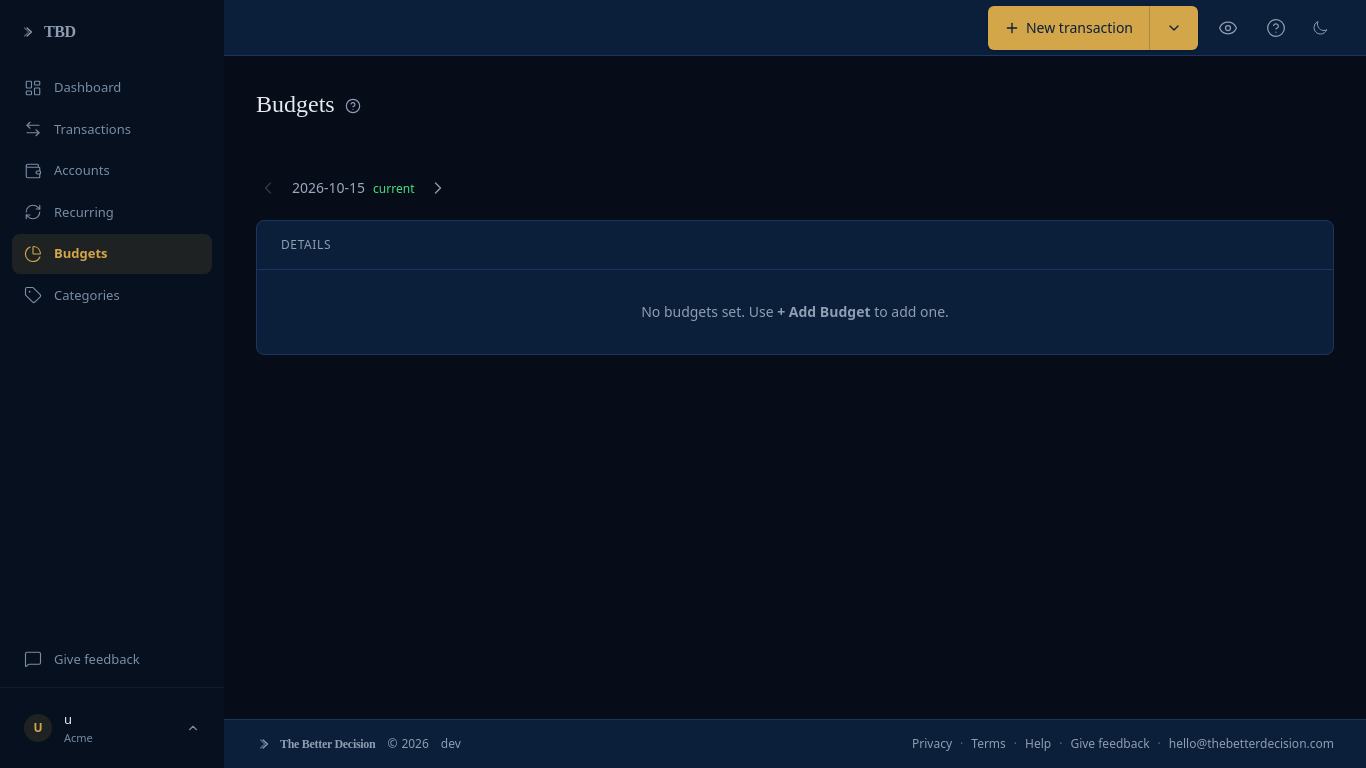
Scenario: /budgets — From Forecast affordances (TBD-197 PR 2) › hides the next-period seed panel's From forecast button while keeping its siblings
This screenshot has width=1366, height=768.
Expected: the heading "Budgets" is shown, [256,88,335,120]
// Move the selection to the next period, where the seed panel lives.
Click the button named "Next period": x=438, y=188 [426,176,450,200]
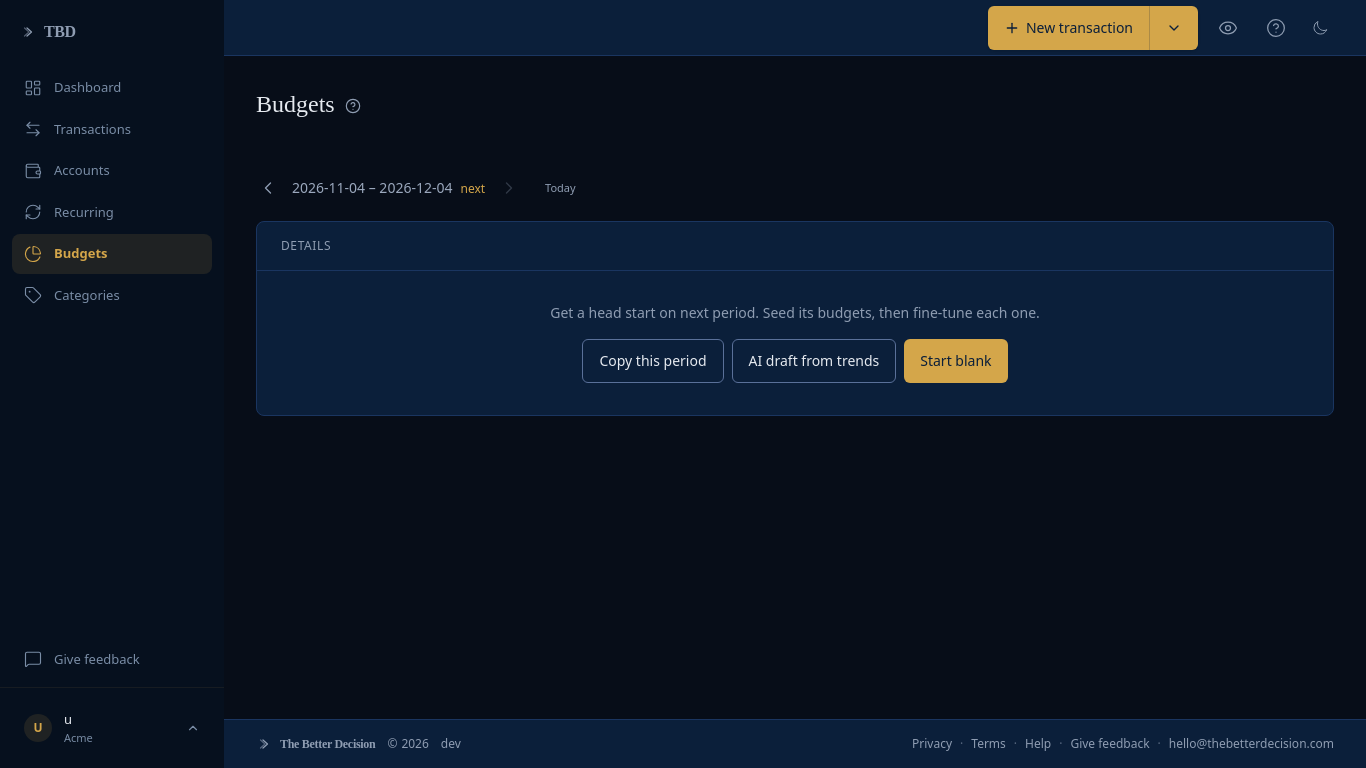
Now the element with test id "next-period-seed" shows "Copy this period", box [582,338,724,382]
Now the element with test id "next-period-seed" shows "Start blank", box [904,338,1008,382]
